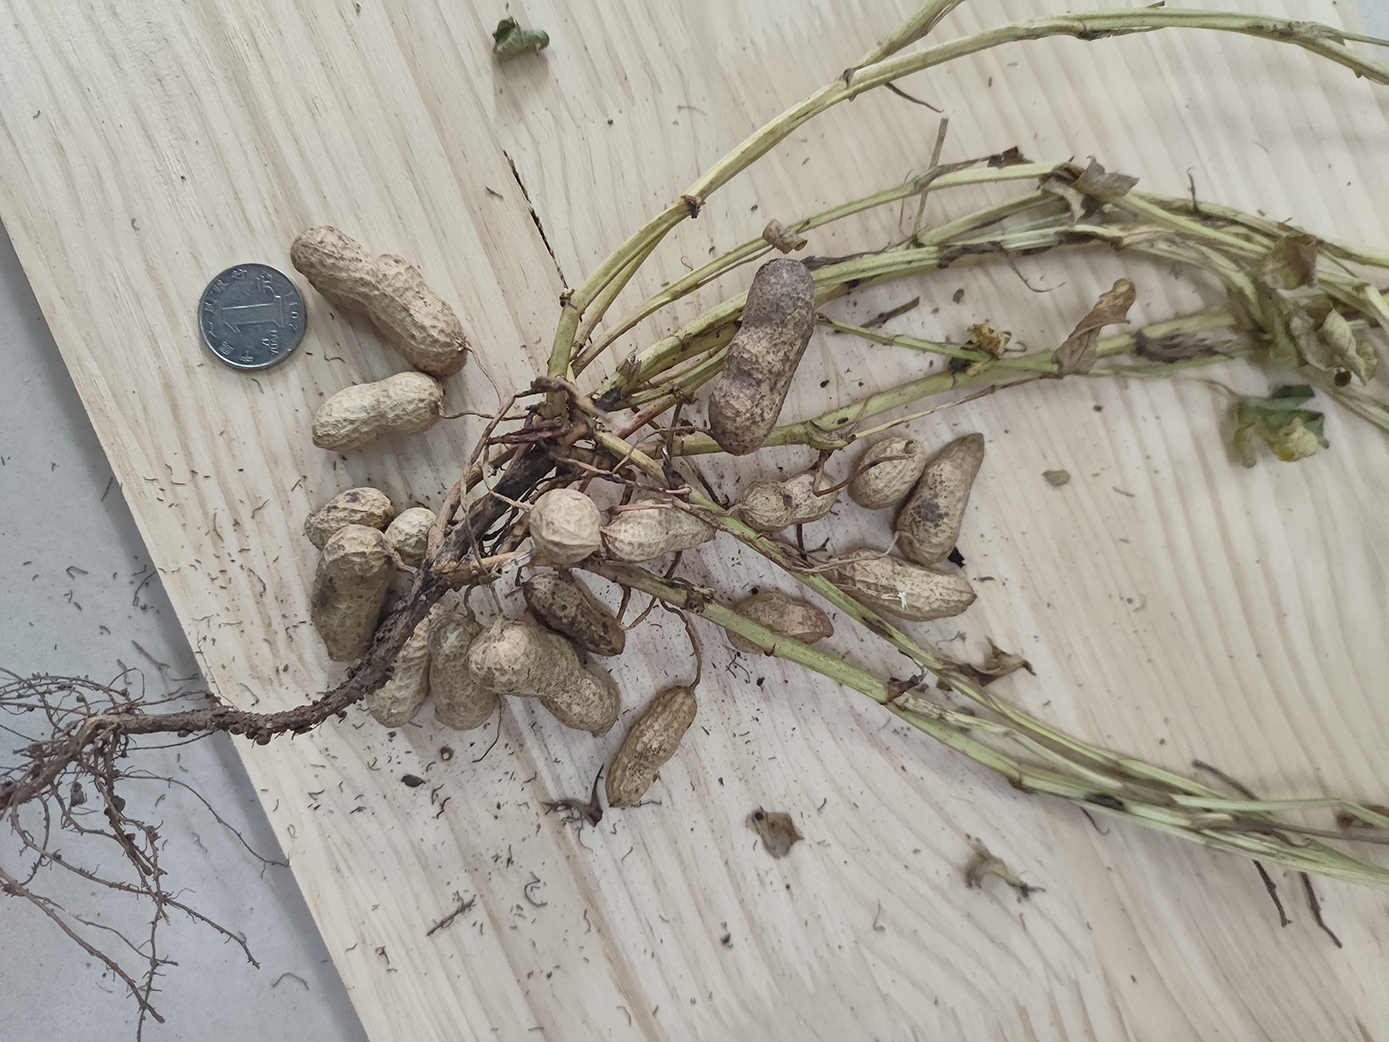h: (290, 225, 467, 377), (467, 621, 620, 736), (895, 435, 985, 566), (606, 688, 698, 807), (831, 549, 980, 622), (313, 372, 444, 451), (311, 526, 386, 660), (364, 600, 437, 729), (524, 574, 623, 657), (427, 614, 494, 731), (604, 499, 719, 560), (725, 595, 835, 655), (529, 489, 604, 569), (846, 436, 926, 510), (308, 488, 392, 551), (744, 473, 837, 529), (385, 507, 438, 566)
l: (708, 259, 814, 456)
